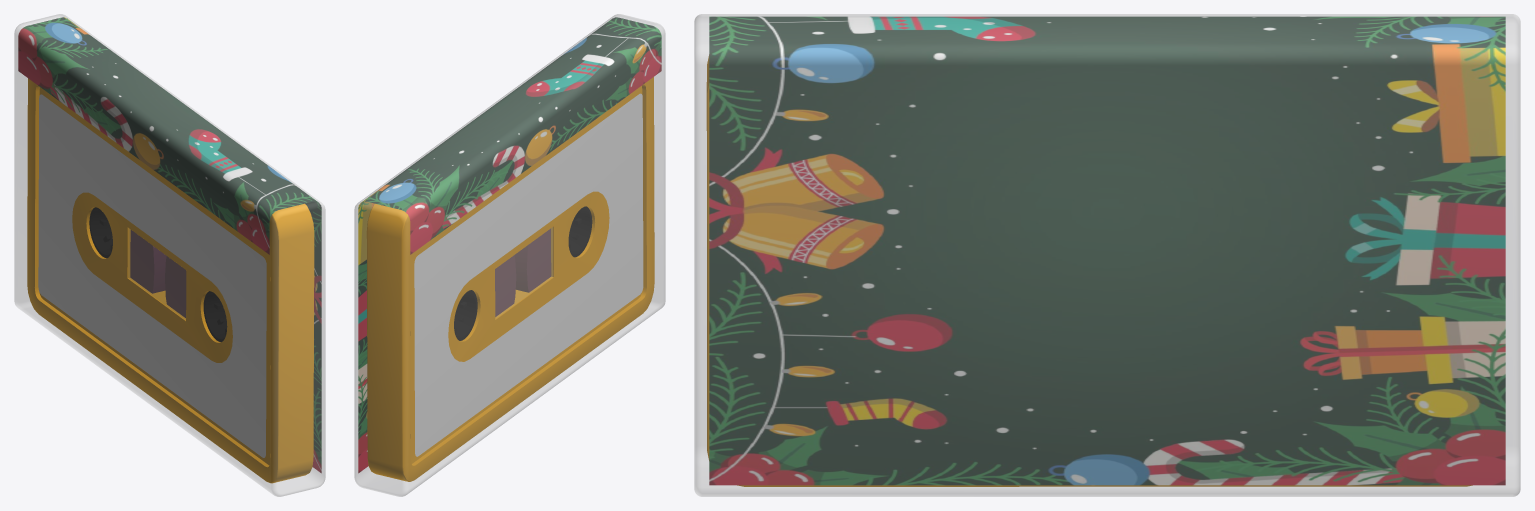
The model's file is packaging.gltf.
The picture shows the model from 3 angles, left to right: view 1: azimuth 30°, elevation 25°; view 2: azimuth 150°, elevation 25°; view 3: azimuth 270°, elevation 25°; orthographic projection. The views are drawn at different scales.
Parts seen in each view (by area): view 1: Cube, Sticker_Front, Kassette_Aussen, Packaging_Front, Tape, Kassette_Innen; view 2: Cube, Sticker_Front, Kassette_Aussen, Packaging_Front, Tape, Kassette_Innen; view 3: Cube, Packaging_Front, Kassette_Aussen.
Boxes of the visible parts, <box> form: Cube: <box>14,14,325,496</box>; Sticker_Front: <box>38,94,266,457</box>; Kassette_Aussen: <box>27,78,314,483</box>; Packaging_Front: <box>18,17,321,473</box>; Tape: <box>89,207,227,342</box>; Kassette_Innen: <box>129,229,185,319</box>; Cube: <box>354,14,665,496</box>; Sticker_Front: <box>414,93,643,456</box>; Kassette_Aussen: <box>366,77,654,481</box>; Packaging_Front: <box>358,17,661,473</box>; Tape: <box>454,206,592,340</box>; Kassette_Innen: <box>495,228,552,317</box>; Cube: <box>694,14,1520,496</box>; Packaging_Front: <box>709,16,1505,485</box>; Kassette_Aussen: <box>706,54,1472,486</box>.
Bounding box in the file's own units: 0.2429 × 1.23 × 2.03.
Materials: 6 (1 with a texture image).
